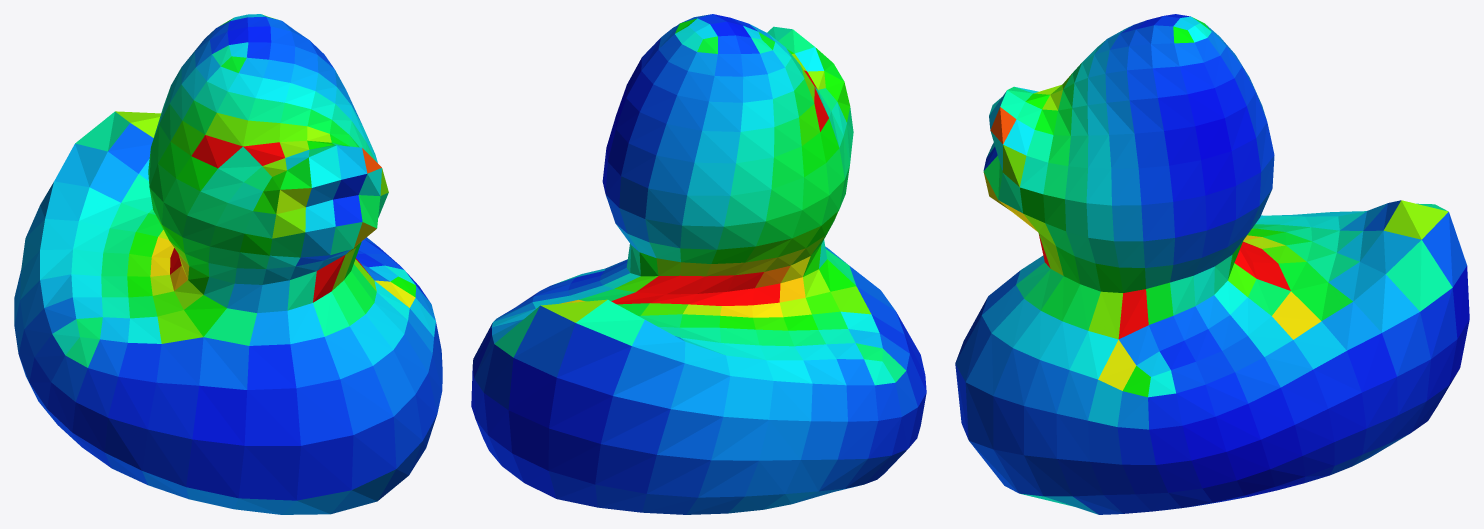
The model's file is duck_quad0_no_opt_quality.obj.
3 renders of one model, left to right at view 1: azimuth 30°, elevation 25°; view 2: azimuth 150°, elevation 25°; view 3: azimuth 270°, elevation 25°, orthographic. The views are drawn at different scales.
Size of the model in its own units: 70.17 by 78.99 by 81.97.
